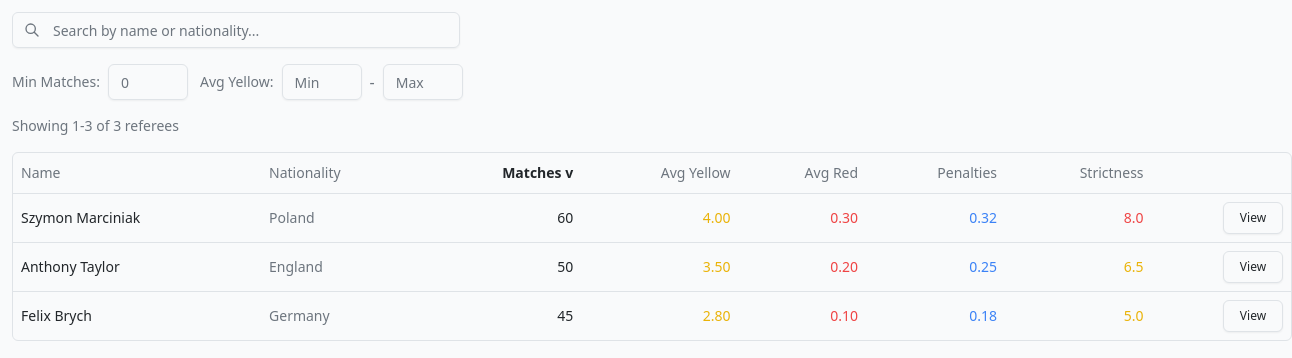
Test case: RefereeDataTable › filters referees by search query
Type "Taylor" into the search field with placeholder "Search by name or nationality..." at (236, 30), box x1=12 y1=12 x2=460 y2=48
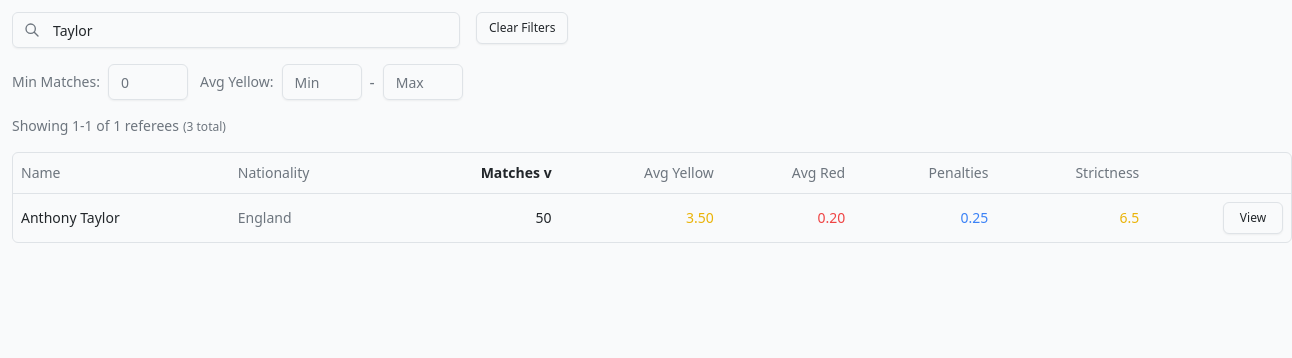
expect the link "Anthony Taylor" is shown: met, box x1=21 y1=208 x2=120 y2=226
expect the link "Felix Brych" is gone: met
expect the link "Szymon Marciniak" is gone: met
